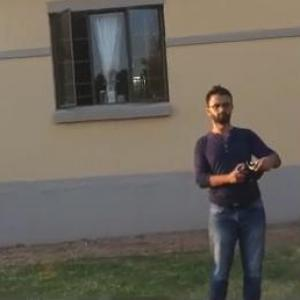follow: (186, 74, 284, 299)
